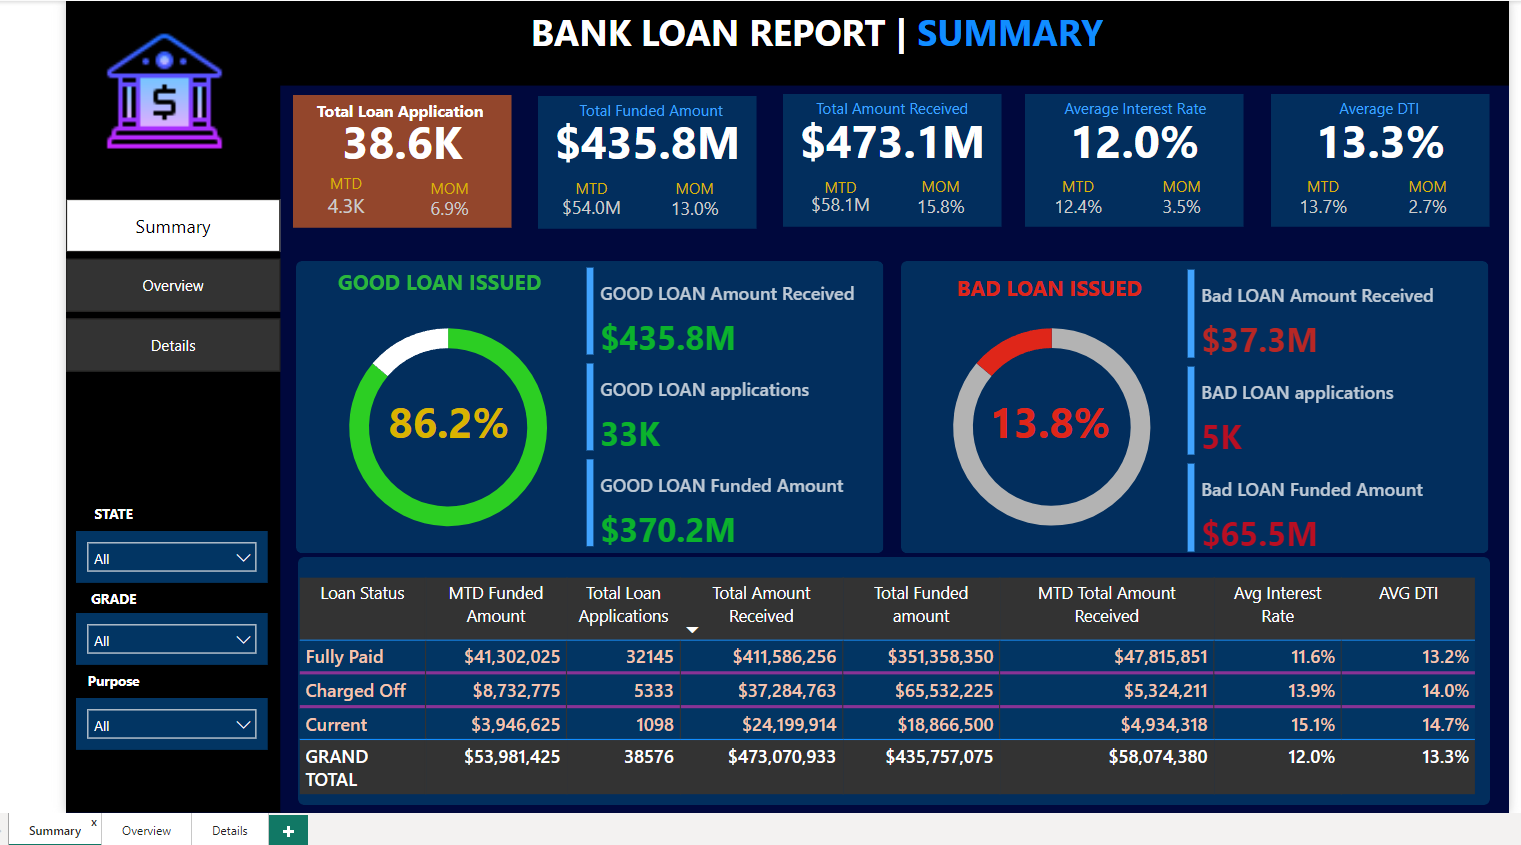

The page's visual inventory and layout, read from the dashboard file:
{"tool":"powerbi","page":{"name":"Summary","canvas":[1280,720],"ordinal":0},"visuals":[{"type":"shape","box":[0,74.5,190,645],"z":0},{"type":"shape","box":[635.9,82.4,193.8,117.7],"z":0,"group":"g4"},{"type":"shape","box":[850.6,82.4,193.8,117.7],"z":0,"group":"g3"},{"type":"shape","box":[1068,82.4,193.8,117.7],"z":0,"group":"g5"},{"type":"shape","box":[201.1,83.8,193.8,117.7],"z":0,"group":"g1"},{"type":"shape","box":[418.5,83.8,193.8,117.7],"z":0,"group":"g2"},{"type":"card","fields":{"Values":["Measure table.Total Amount Received"]},"box":[635.9,99.1,193.8,47.9],"z":1000,"group":"g4"},{"type":"card","fields":{"Values":["Measure table.Avg Interest Rate"]},"box":[850.6,99.1,193.8,47.9],"z":1000,"group":"g3"},{"type":"card","fields":{"Values":["Measure table.AVG DTI"]},"box":[1068,99.1,193.8,47.9],"z":1000,"group":"g5"},{"type":"card","fields":{"Values":["loan data.Total Loan Applications"]},"box":[201.1,100.4,193.8,47.9],"z":1000,"group":"g1"},{"type":"card","fields":{"Values":["Measure table.Total Funded amount"]},"box":[418.5,100.4,193.8,47.9],"z":1000,"group":"g2"},{"type":"shape","box":[204.2,230.3,520.9,259.1],"z":1000},{"type":"shape","box":[0,0,1280,75],"z":2000},{"type":"textbox","box":[634.6,81.8,195.5,31.6],"z":2000,"group":"g4"},{"type":"textbox","box":[851.2,81.8,194,31.6],"z":2000,"group":"g3"},{"type":"textbox","box":[1066.5,81.8,195.5,31.6],"z":2000,"group":"g5"},{"type":"textbox","box":[196.5,82.6,198.5,33.1],"z":2000,"group":"g1"},{"type":"textbox","box":[425.3,83.2,186.5,33.1],"z":2000,"group":"g2"},{"type":"card","title":"MTD","fields":{"Values":["loan data.MTD loan Applications"]},"box":[219.1,152.3,56.7,49.4],"z":3000,"group":"g1"},{"type":"card","title":"MTD","fields":{"Values":["Measure table.MTD Avg Int Rate"]},"box":[867.3,155.3,60.4,44.8],"z":3000,"group":"g3"},{"type":"card","title":"MTD","fields":{"Values":["Measure table.MTD Avg DTI"]},"box":[1084.6,155.3,60.4,44.8],"z":3000,"group":"g5"},{"type":"card","title":"MTD","fields":{"Values":["Measure table.MTD Total Amount Received"]},"box":[652.7,156.5,68.3,39.9],"z":3000,"group":"g4"},{"type":"card","title":"MTD","fields":{"Values":["Measure table.MTD Funded Amount"]},"box":[429.6,156.6,71.8,44.3],"z":3000,"group":"g2"},{"type":"textbox","box":[204.6,231.6,252.7,49.6],"z":3000},{"type":"card","title":"MOM","fields":{"Values":["Measure table.MOM Total Received  Amount"]},"box":[732.8,155.3,84.4,44.8],"z":4000,"group":"g4"},{"type":"card","title":"MOM","fields":{"Values":["Measure table.MOM Avg Int Rate"]},"box":[947.5,155.3,84.4,44.8],"z":4000,"group":"g3"},{"type":"card","title":"MOM","fields":{"Values":["Measure table.MOM Avg DTI"]},"box":[1164.8,155.3,84.4,44.8],"z":4000,"group":"g5"},{"type":"card","title":"MOM","fields":{"Values":["loan data.MOM Loan Application"]},"box":[298,156.7,84.4,44.8],"z":4000,"group":"g1"},{"type":"card","title":"MOM","fields":{"Values":["Measure table.MOM Total Funded Amount"]},"box":[515.4,156.7,84.4,44.8],"z":4000,"group":"g2"},{"type":"card","fields":{"Values":["Measure table.Good loan %"]},"box":[242.6,349.6,193,47.8],"z":4000},{"type":"textbox","box":[407.2,0,554.3,74.6],"z":5000},{"type":"group","id":"g1","title":"Group 1","box":[196.5,82.6,198.5,119.1],"z":6000},{"type":"group","id":"g2","title":"Group 1","box":[418.5,83.2,193.8,118.3],"z":7000},{"type":"donutChart","fields":{"Y":["Measure table.Total Loan Applications"],"Category":["loan data.Good VS Bad Loan"]},"box":[214,263.6,250.3,229.3],"z":8000},{"type":"group","id":"g3","title":"Group 1","box":[850.6,81.8,194.6,118.3],"z":9000},{"type":"group","id":"g4","title":"Group 1","box":[634.6,81.8,195.5,118.3],"z":10000},{"type":"group","id":"g5","title":"Group 1","box":[1066.5,81.8,195.5,118.3],"z":11000},{"type":"shape","box":[740.8,230.3,520.9,259.1],"z":12000},{"type":"cardVisual","fields":{"Data":["Measure table.GOOD LOAN Amount Received","Measure table.GOOD LOAN applications","Measure table.GOOD LOAN Funded Amount"]},"box":[456.6,231.2,269.4,259.8],"z":13000},{"type":"donutChart","fields":{"Y":["Measure table.Total Loan Applications"],"Category":["loan data.Good VS Bad Loan"]},"box":[749,263.2,249.7,228.6],"z":14000},{"type":"textbox","box":[745.1,236.9,254.1,49.7],"z":15000},{"type":"shape","box":[205.7,493,1056.9,219.9],"z":16000},{"type":"card","fields":{"Values":["Measure table.Bad loan %"]},"box":[775.6,349.6,193,47.8],"z":17000},{"type":"cardVisual","fields":{"Data":["Measure table.Bad LOAN Amount Received","Measure table.BAD LOAN applications","Measure table.Bad LOAN Funded Amount"]},"box":[989.7,232.8,269.1,260],"z":18000},{"type":"tableEx","fields":{"Values":["loan data.loan_status","Measure table.MTD Funded Amount","Measure table.Total Loan Applications","Measure table.Total Amount Received","Measure table.Total Funded amount","Measure table.MTD Total Amount Received","Measure table.Avg Interest Rate","Measure table.AVG DTI"]},"box":[200.9,505.9,1061.6,207.3],"z":19000},{"type":"slicer","fields":{"Values":["loan data.address_state"]},"box":[9.1,469.7,170.3,46.4],"z":20000},{"type":"textbox","box":[9.1,440.4,66.5,29.2],"z":21000},{"type":"slicer","fields":{"Values":["loan data.grade"]},"box":[9.1,542.2,170.3,46.4],"z":22000},{"type":"textbox","box":[9.1,516,66.5,29.2],"z":23000},{"type":"slicer","fields":{"Values":["loan data.purpose"]},"box":[9.1,617.8,170.3,46.4],"z":24000},{"type":"textbox","box":[9.1,588.6,66.5,29.2],"z":25000},{"type":"pageNavigator","box":[0,175.4,190.5,155.2],"z":25001},{"type":"image","box":[17.1,12.1,140.1,135.1],"z":25002}]}

Visuals, with their boxes on the page's 1280x720 design canvas (x1, y1, x2, y2). These are canvas units, not pixel positions in the 1521x845 screenshot, which may show the page scaled, cropped or inside an application window:
shape: select_region(0, 74, 190, 720)
shape: select_region(636, 82, 830, 200)
shape: select_region(851, 82, 1044, 200)
shape: select_region(1068, 82, 1262, 200)
shape: select_region(201, 84, 395, 202)
shape: select_region(418, 84, 612, 202)
card - Measure table.Total Amount Received: select_region(636, 99, 830, 147)
card - Measure table.Avg Interest Rate: select_region(851, 99, 1044, 147)
card - Measure table.AVG DTI: select_region(1068, 99, 1262, 147)
card - loan data.Total Loan Applications: select_region(201, 100, 395, 148)
card - Measure table.Total Funded amount: select_region(418, 100, 612, 148)
shape: select_region(204, 230, 725, 489)
shape: select_region(0, 0, 1280, 75)
textbox: select_region(635, 82, 830, 113)
textbox: select_region(851, 82, 1045, 113)
textbox: select_region(1066, 82, 1262, 113)
textbox: select_region(196, 83, 395, 116)
textbox: select_region(425, 83, 612, 116)
"MTD" card: select_region(219, 152, 276, 202)
"MTD" card: select_region(867, 155, 928, 200)
"MTD" card: select_region(1085, 155, 1145, 200)
"MTD" card: select_region(653, 156, 721, 196)
"MTD" card: select_region(430, 157, 501, 201)
textbox: select_region(205, 232, 457, 281)
"MOM" card: select_region(733, 155, 817, 200)
"MOM" card: select_region(948, 155, 1032, 200)
"MOM" card: select_region(1165, 155, 1249, 200)
"MOM" card: select_region(298, 157, 382, 202)
"MOM" card: select_region(515, 157, 600, 202)
card - Measure table.Good loan %: select_region(243, 350, 436, 397)
textbox: select_region(407, 0, 962, 75)
"Group 1" group: select_region(196, 83, 395, 202)
"Group 1" group: select_region(418, 83, 612, 202)
donutChart - Measure table.Total Loan Applications x loan data.Good VS Bad Loan: select_region(214, 264, 464, 493)
"Group 1" group: select_region(851, 82, 1045, 200)
"Group 1" group: select_region(635, 82, 830, 200)
"Group 1" group: select_region(1066, 82, 1262, 200)
shape: select_region(741, 230, 1262, 489)
cardVisual - Measure table.GOOD LOAN Amount Received x Measure table.GOOD LOAN applications: select_region(457, 231, 726, 491)
donutChart - Measure table.Total Loan Applications x loan data.Good VS Bad Loan: select_region(749, 263, 999, 492)
textbox: select_region(745, 237, 999, 287)
shape: select_region(206, 493, 1263, 713)
card - Measure table.Bad loan %: select_region(776, 350, 969, 397)
cardVisual - Measure table.Bad LOAN Amount Received x Measure table.BAD LOAN applications: select_region(990, 233, 1259, 493)
tableEx - loan data.loan_status x Measure table.MTD Funded Amount: select_region(201, 506, 1262, 713)
slicer - loan data.address_state: select_region(9, 470, 179, 516)
textbox: select_region(9, 440, 76, 470)
slicer - loan data.grade: select_region(9, 542, 179, 589)
textbox: select_region(9, 516, 76, 545)
slicer - loan data.purpose: select_region(9, 618, 179, 664)
textbox: select_region(9, 589, 76, 618)
pageNavigator: select_region(0, 175, 190, 331)
image: select_region(17, 12, 157, 147)
